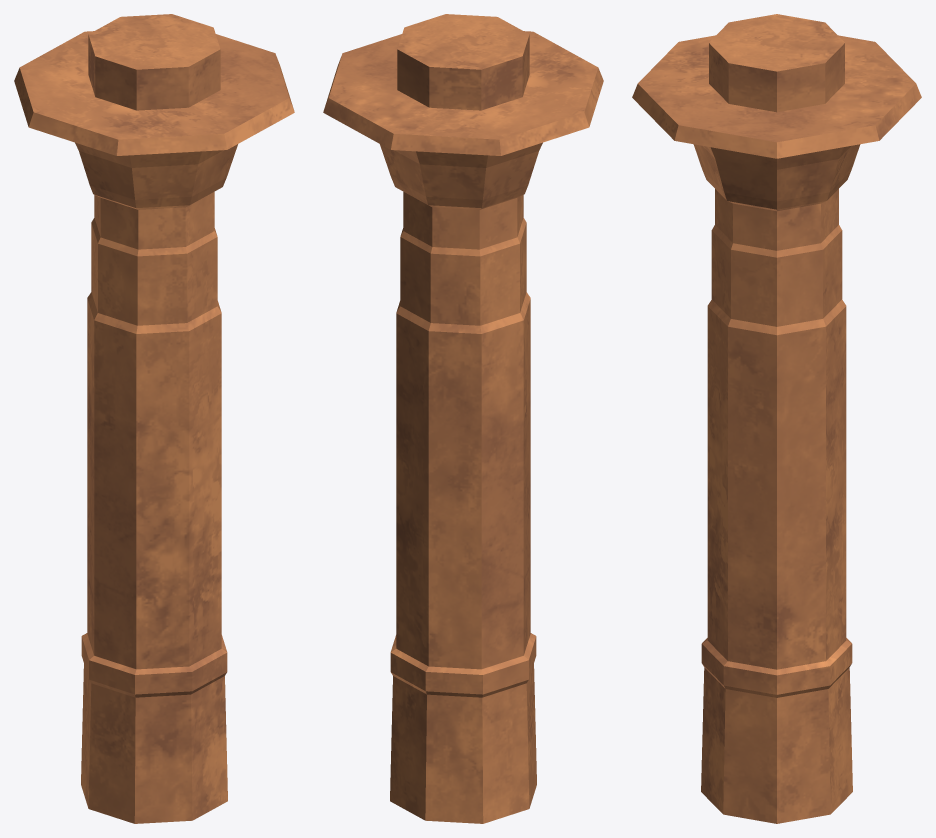
The model's file is column02.fbx.
The picture shows the model from 3 angles, left to right: view 1: azimuth 30°, elevation 25°; view 2: azimuth 150°, elevation 25°; view 3: azimuth 270°, elevation 25°; orthographic projection.
Visible parts, largest first — view 1: pCylinder2; view 2: pCylinder2; view 3: pCylinder2.
Part boxes in pixels (<box>): pCylinder2: <box>14,14,294,823</box>; pCylinder2: <box>323,14,603,823</box>; pCylinder2: <box>632,14,921,823</box>.
Size of the model in its own units: 1.84 by 5.25 by 1.84.
